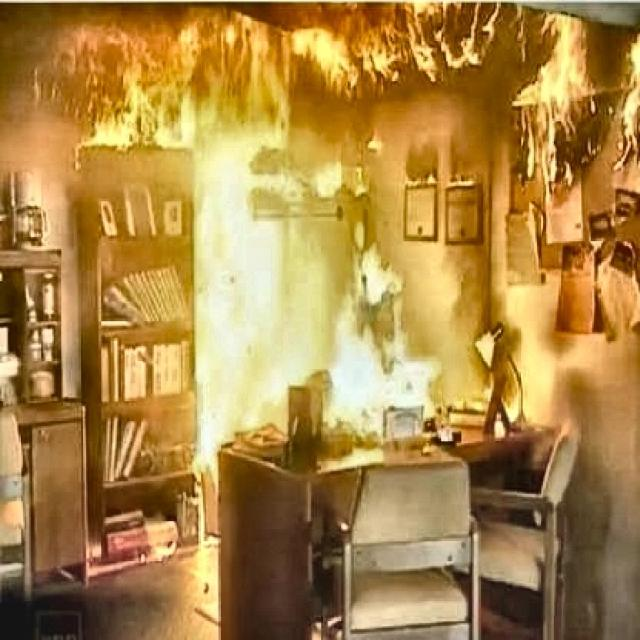fire: (21, 0, 638, 455)
